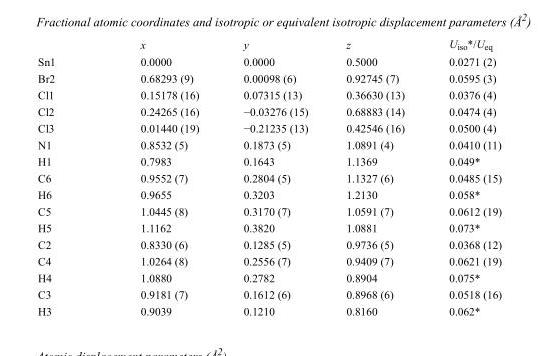table: (37, 36, 501, 316)
table column: (97, 36, 220, 316), (220, 36, 326, 316), (326, 36, 426, 316), (426, 36, 501, 316), (37, 36, 97, 316)
table column header: (37, 36, 501, 52)
table row: (37, 52, 501, 69), (37, 69, 501, 86), (37, 102, 501, 119), (37, 119, 501, 136), (37, 152, 501, 169), (37, 185, 501, 202), (37, 202, 501, 219), (37, 235, 501, 252), (37, 252, 501, 269), (37, 285, 501, 302), (37, 36, 501, 52), (37, 86, 501, 102), (37, 136, 501, 152), (37, 169, 501, 185), (37, 219, 501, 235), (37, 269, 501, 285), (37, 302, 501, 316)
